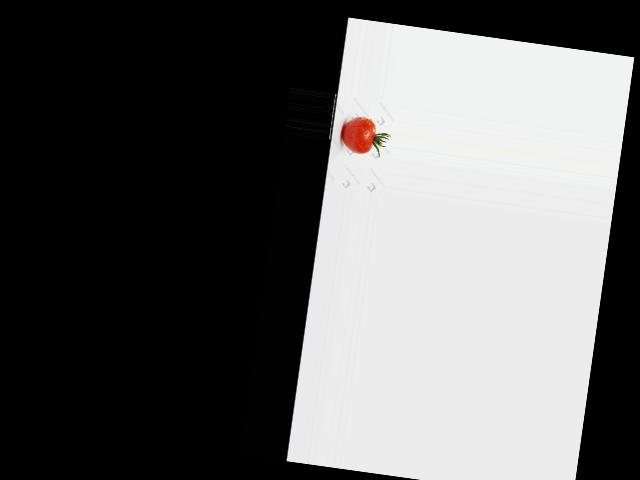tomato: (340, 115, 376, 155)
